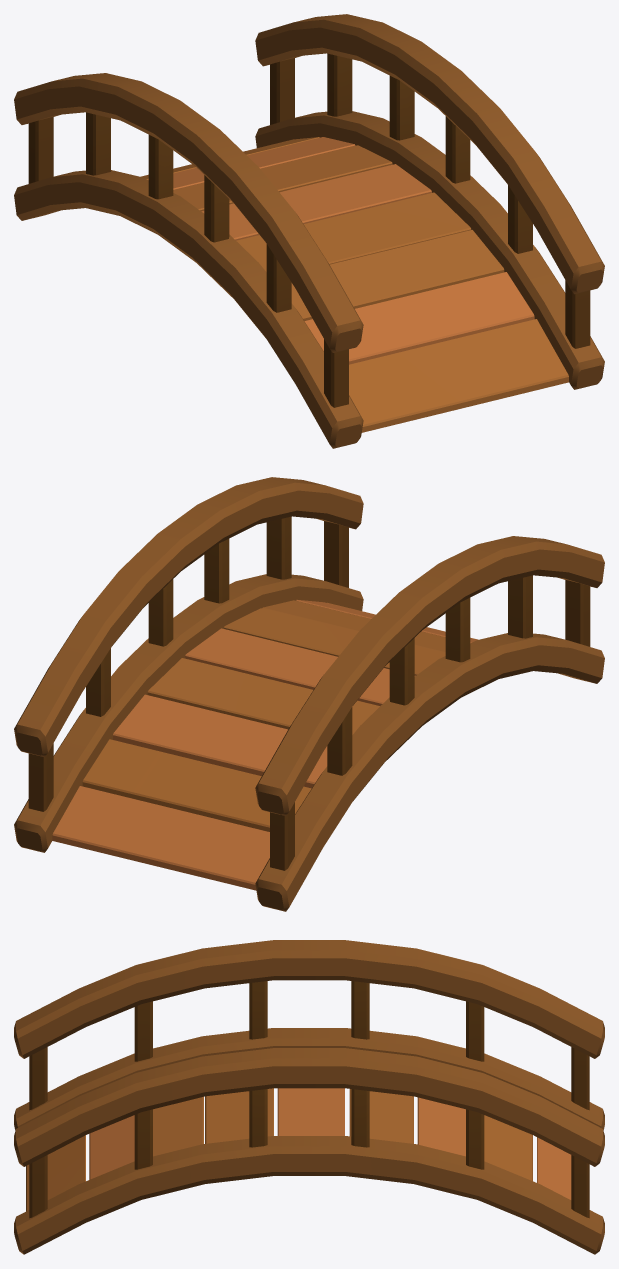
Rendered from Bridge_1_1.fbx.
3 renders of one model, top to bottom at view 1: azimuth 30°, elevation 25°; view 2: azimuth 150°, elevation 25°; view 3: azimuth 270°, elevation 25°, orthographic. The views are drawn at different scales.
Parts seen in each view (by area): view 1: Bridge_1_1; view 2: Bridge_1_1; view 3: Bridge_1_1.
Part boxes in pixels (bbox=[...]): Bridge_1_1: bbox=[14, 14, 604, 448]; Bridge_1_1: bbox=[14, 477, 604, 911]; Bridge_1_1: bbox=[14, 940, 604, 1254].
Bounding box in the file's own units: 200 × 150 × 409.
